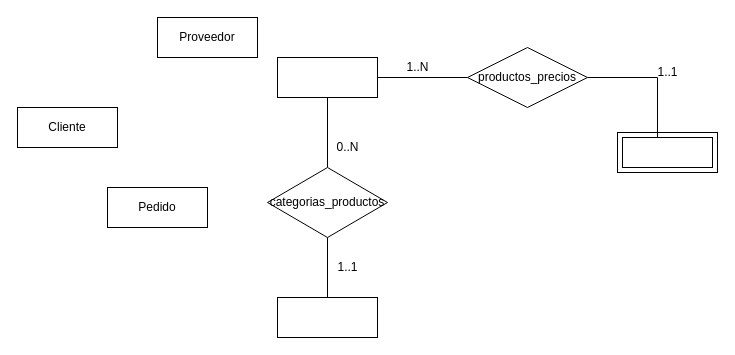
Image size: 735x355. Some labels were removed from this diagram. Here are the shapes that lost their labels. From the top down, the box of each, then its label:
(276, 56, 378, 98): Producto
(616, 132, 718, 172): Precio
(276, 296, 378, 338): Categoria
